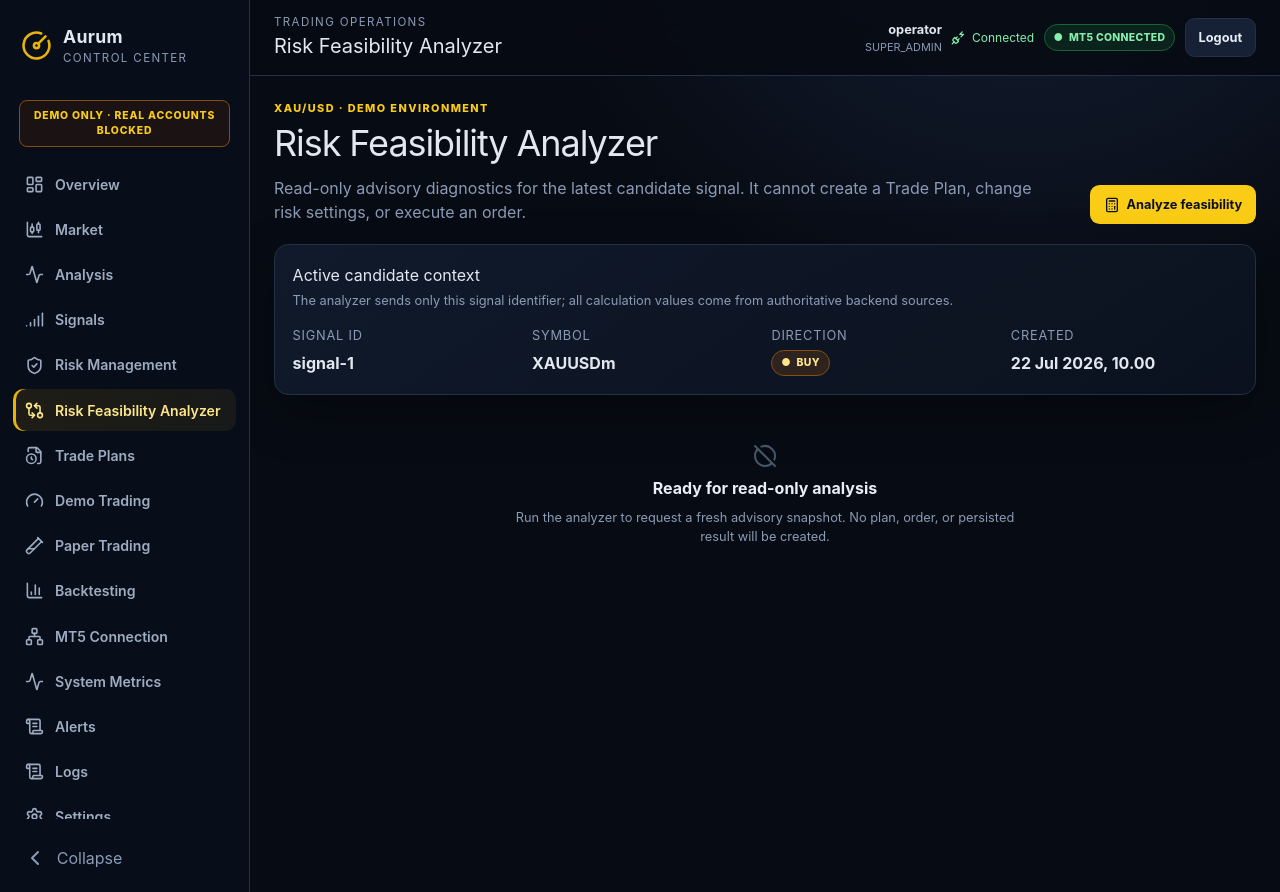
Test: Risk Feasibility Analyzer page › renders UNAVAILABLE reasons but never presents them as feasible
Click the button "Analyze feasibility" at (1173, 204), box [1090,185,1256,224]
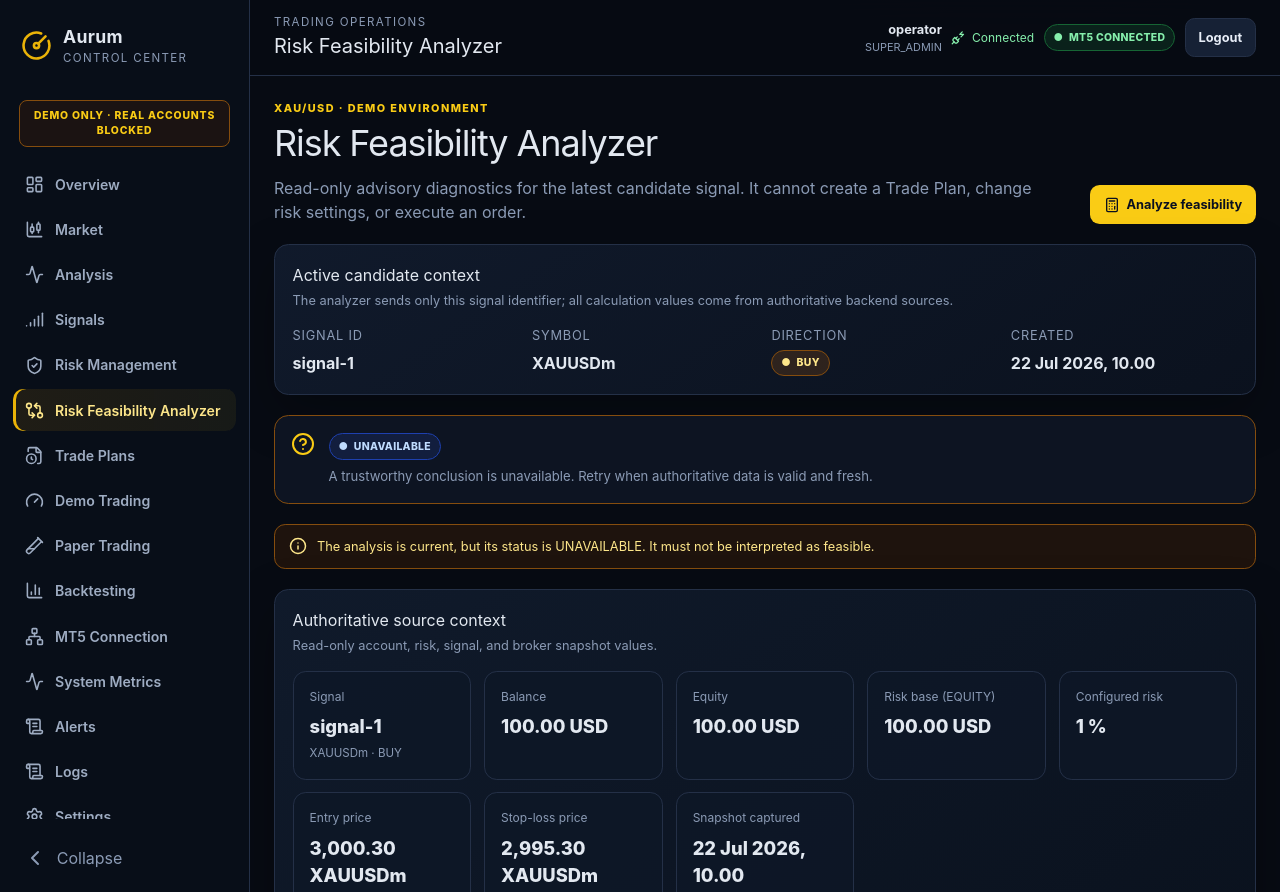
Expected: the text "must not be interpreted as feasible" is shown, [317,539,875,554]
